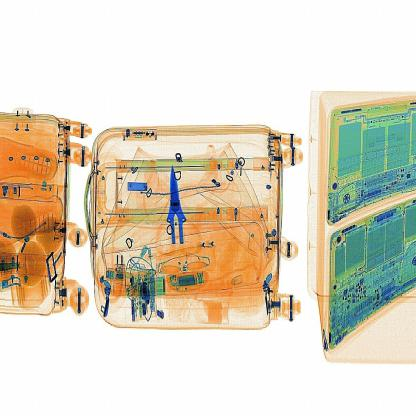gun: (154, 154, 212, 262)
